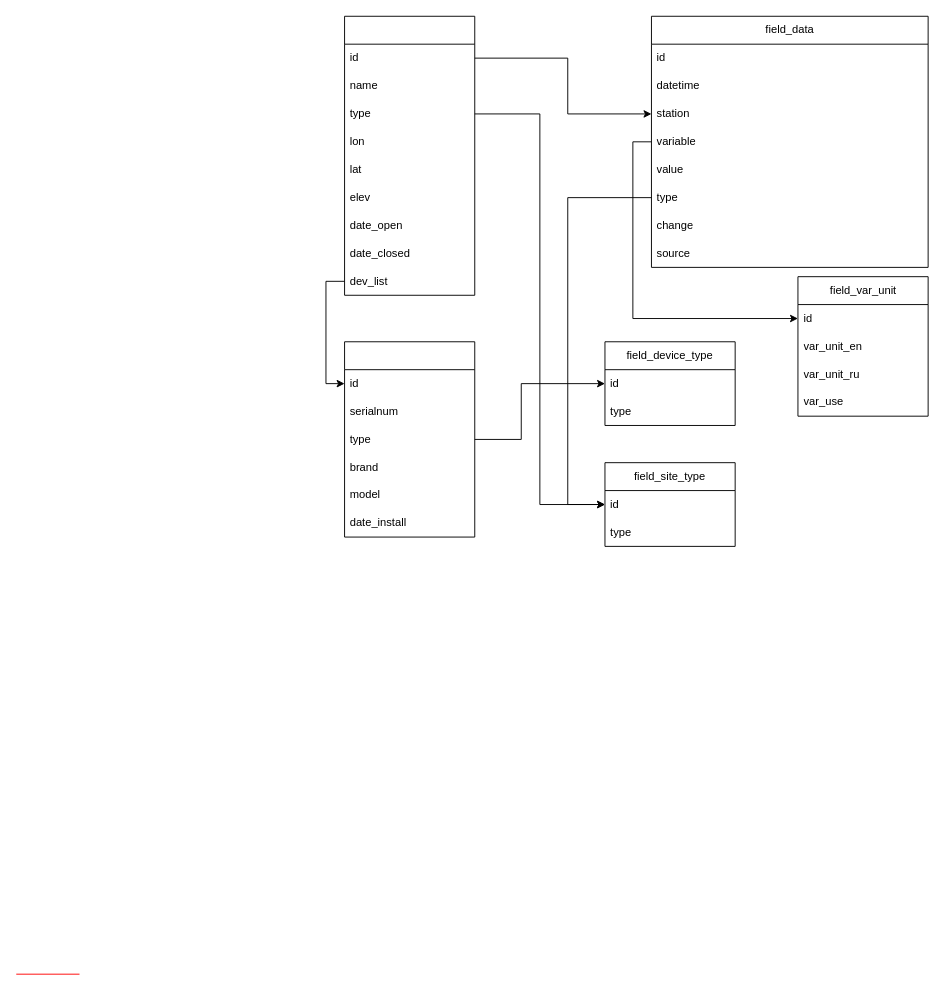
The diagram is 945 pixels wide and 995 high, and some of its shapes have lost their labels. Here are the shapes that lost their labels. From the top down, the box of each, then its label:
(344, 15, 475, 295): field_site
(344, 341, 475, 537): field_device
